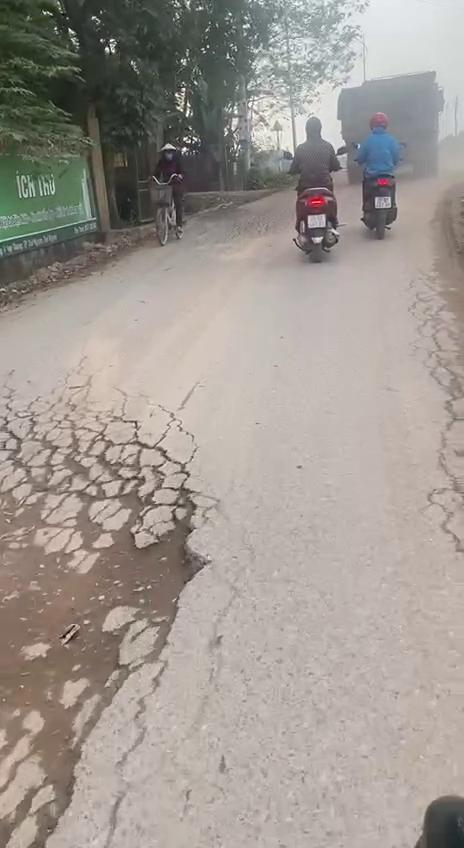pothole: (0, 405, 212, 848)
